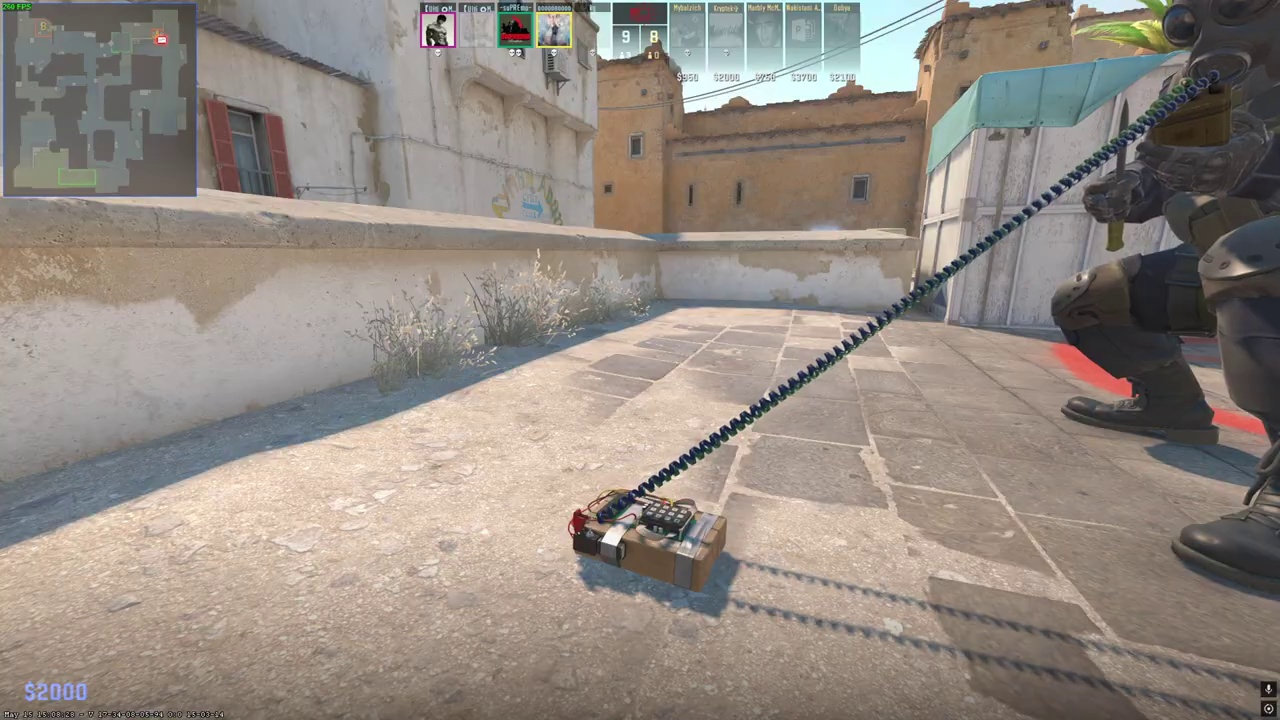CT: (1069, 0, 1280, 590)
